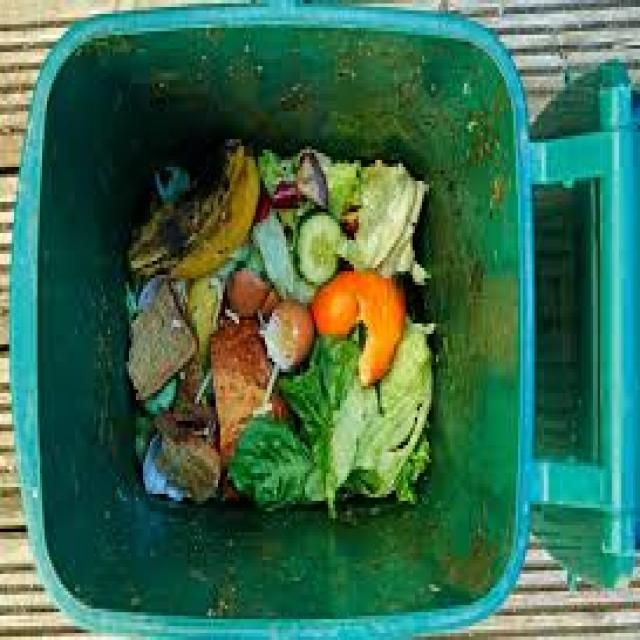Organik: (102, 123, 447, 535), (119, 128, 286, 307), (243, 274, 418, 433)
